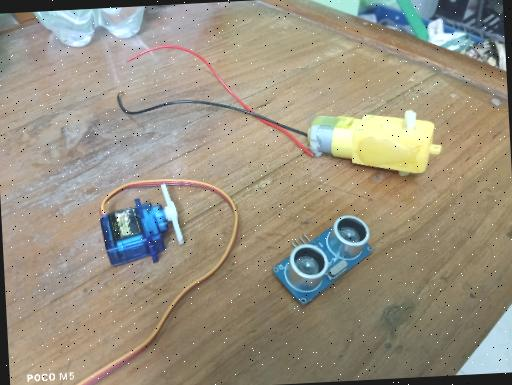Motor: (304, 107, 444, 182), (98, 182, 185, 268)
sensor: (268, 213, 377, 309)
